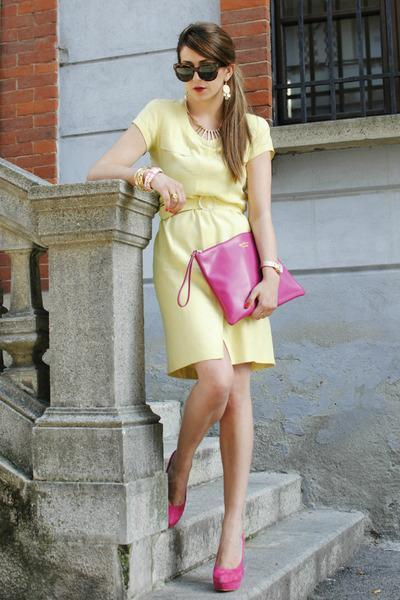bag: (191, 220, 323, 330)
dress: (142, 99, 274, 373)
shoe: (168, 501, 243, 599)
sunglass: (173, 38, 227, 81)
